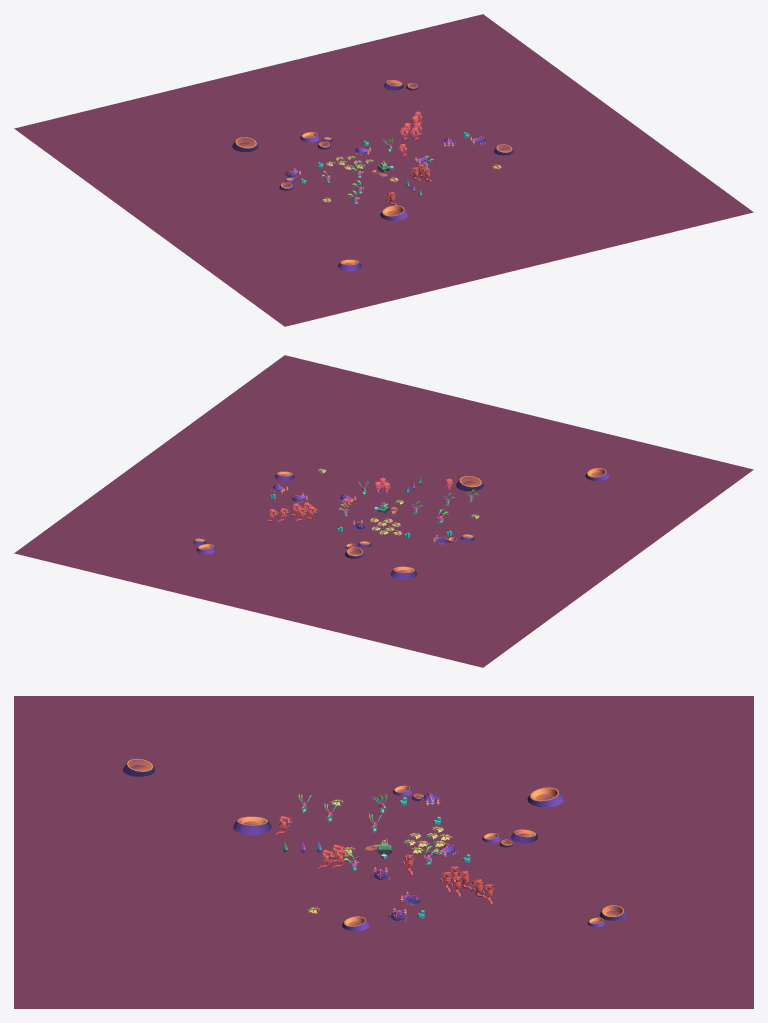
Rendered from Crystall_Green.fbx.
The picture shows the model from 3 angles, top to bottom: view 1: azimuth 30°, elevation 25°; view 2: azimuth 150°, elevation 25°; view 3: azimuth 270°, elevation 25°; orthographic projection. The views are drawn at different scales.
Visible parts, largest first — view 1: Ground; view 2: Ground; view 3: Ground, Plane.004, Plane.008.
Part boxes in pixels (x1=…): Ground: x1=14, y1=14, x2=753, y2=326; Ground: x1=14, y1=355, x2=753, y2=667; Ground: x1=14, y1=696, x2=753, y2=1008; Plane.004: x1=233, y1=816, x2=271, y2=835; Plane.008: x1=527, y1=787, x2=563, y2=807.
Size of the model in its own units: 20000 by 626 by 20000.
